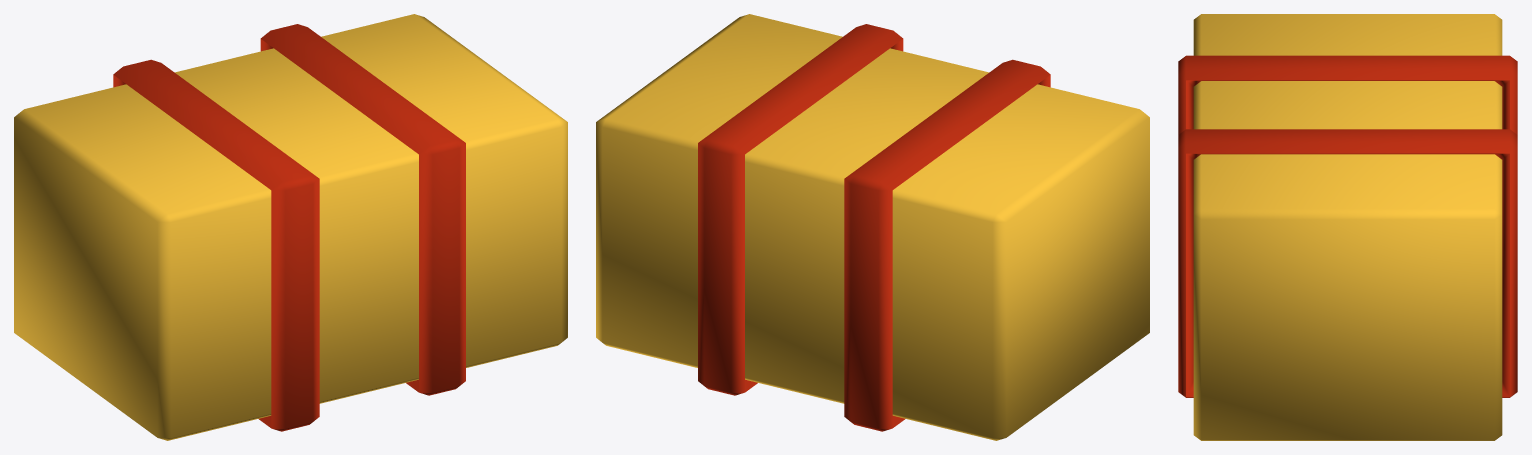
Rendered from Hay_02.fbx.
3 views of the same model, side by side, from view 1: azimuth 30°, elevation 25°; view 2: azimuth 150°, elevation 25°; view 3: azimuth 270°, elevation 25° (orthographic). The views are drawn at different scales.
Parts seen in each view (by area): view 1: Hay_02; view 2: Hay_02; view 3: Hay_02.
Part boxes in pixels (x1,y1,x2,y2): Hay_02: (14, 14, 567, 440); Hay_02: (596, 14, 1149, 440); Hay_02: (1178, 14, 1517, 440).
Size of the model in its own units: 150 by 86.83 by 105.
